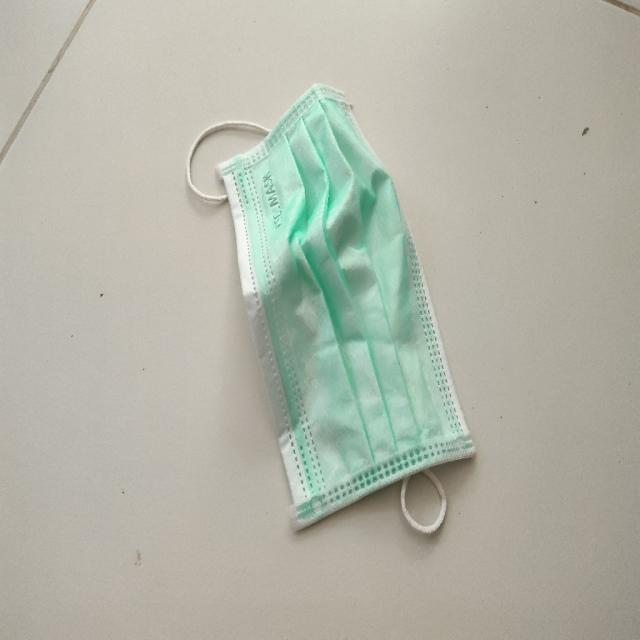non-organic waste: (192, 75, 476, 537)
